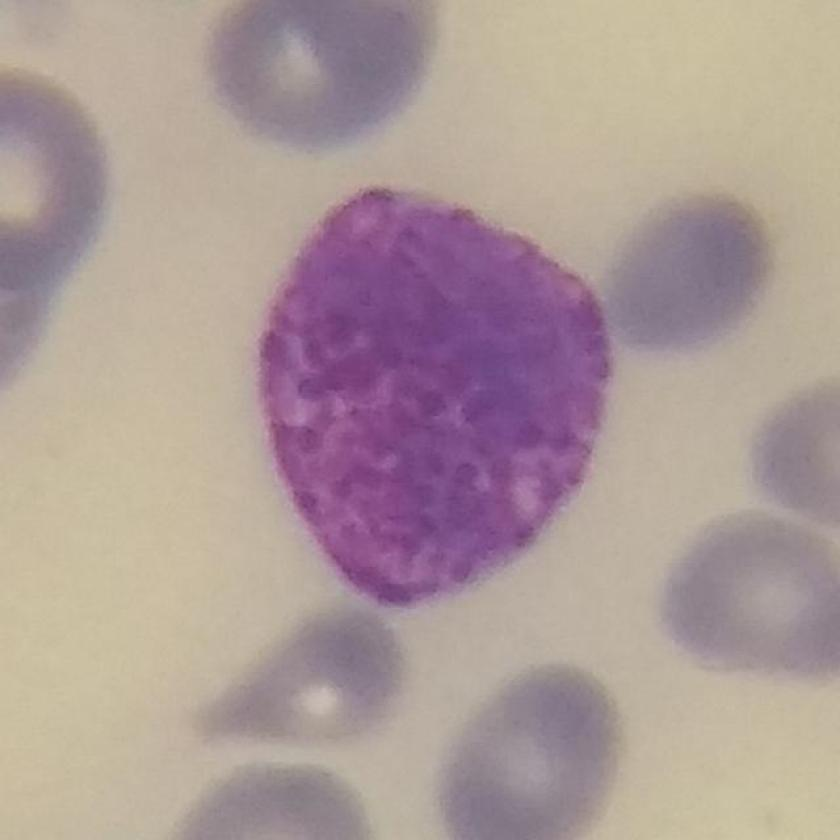basophil: (253, 177, 618, 614)
